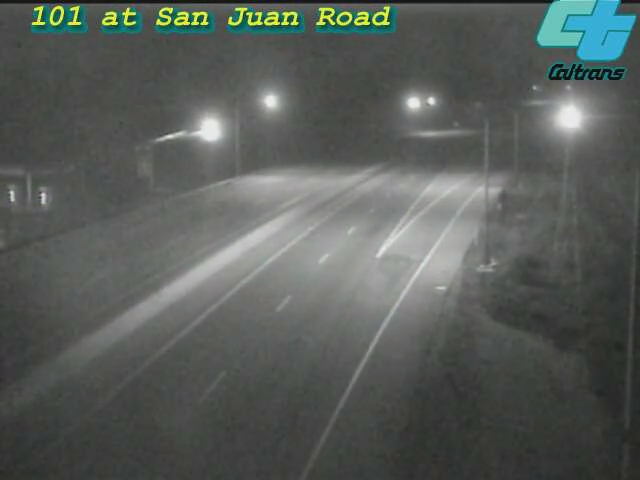vehicle: (543, 93, 593, 143)
